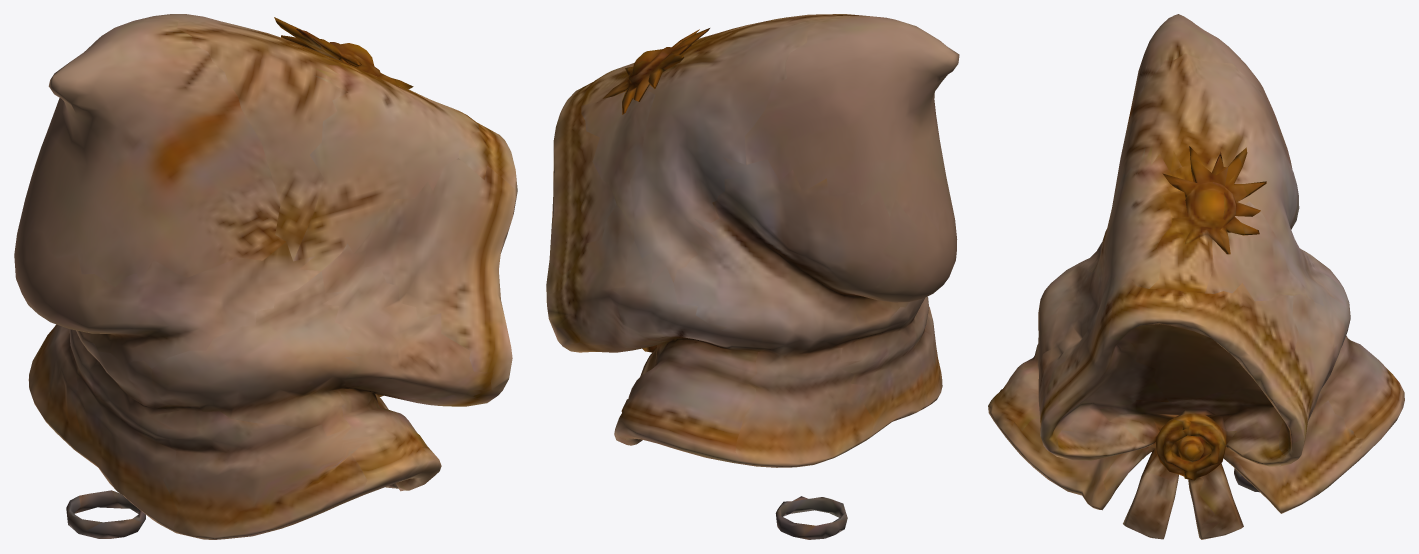
Rendered from hat_hood.glb.
The picture shows the model from 3 angles, left to right: view 1: azimuth 30°, elevation 25°; view 2: azimuth 150°, elevation 25°; view 3: azimuth 270°, elevation 25°; orthographic projection. The views are drawn at different scales.
Parts seen in each view (by area): view 1: tripo_node_a2dcd1ab-b8ee-42f6-a8dd-89a2d7185f07; view 2: tripo_node_a2dcd1ab-b8ee-42f6-a8dd-89a2d7185f07; view 3: tripo_node_a2dcd1ab-b8ee-42f6-a8dd-89a2d7185f07.
Boxes of the visible parts, left/top/right/bottom form: tripo_node_a2dcd1ab-b8ee-42f6-a8dd-89a2d7185f07: left=14, top=14, right=517, bottom=539; tripo_node_a2dcd1ab-b8ee-42f6-a8dd-89a2d7185f07: left=546, top=14, right=959, bottom=539; tripo_node_a2dcd1ab-b8ee-42f6-a8dd-89a2d7185f07: left=988, top=14, right=1404, bottom=539.
Size of the model in its own units: 0.8757 by 1 by 0.8594.
1 material, 1 textured.
